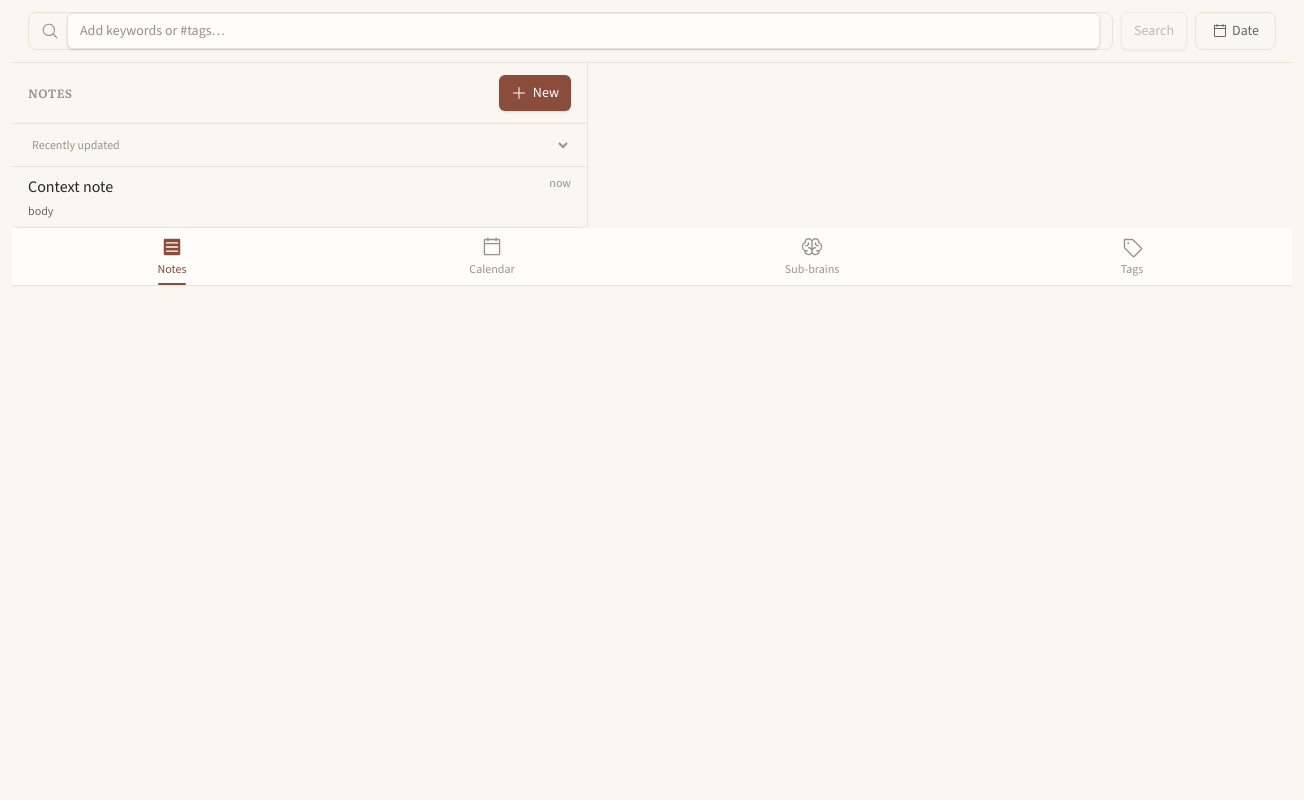
Test: user flows (integration) › opens editor from note selection while staying on notes tab
The image size is (1304, 800).
Click the text "Context note" at (71, 187), box [28,175,113,199]
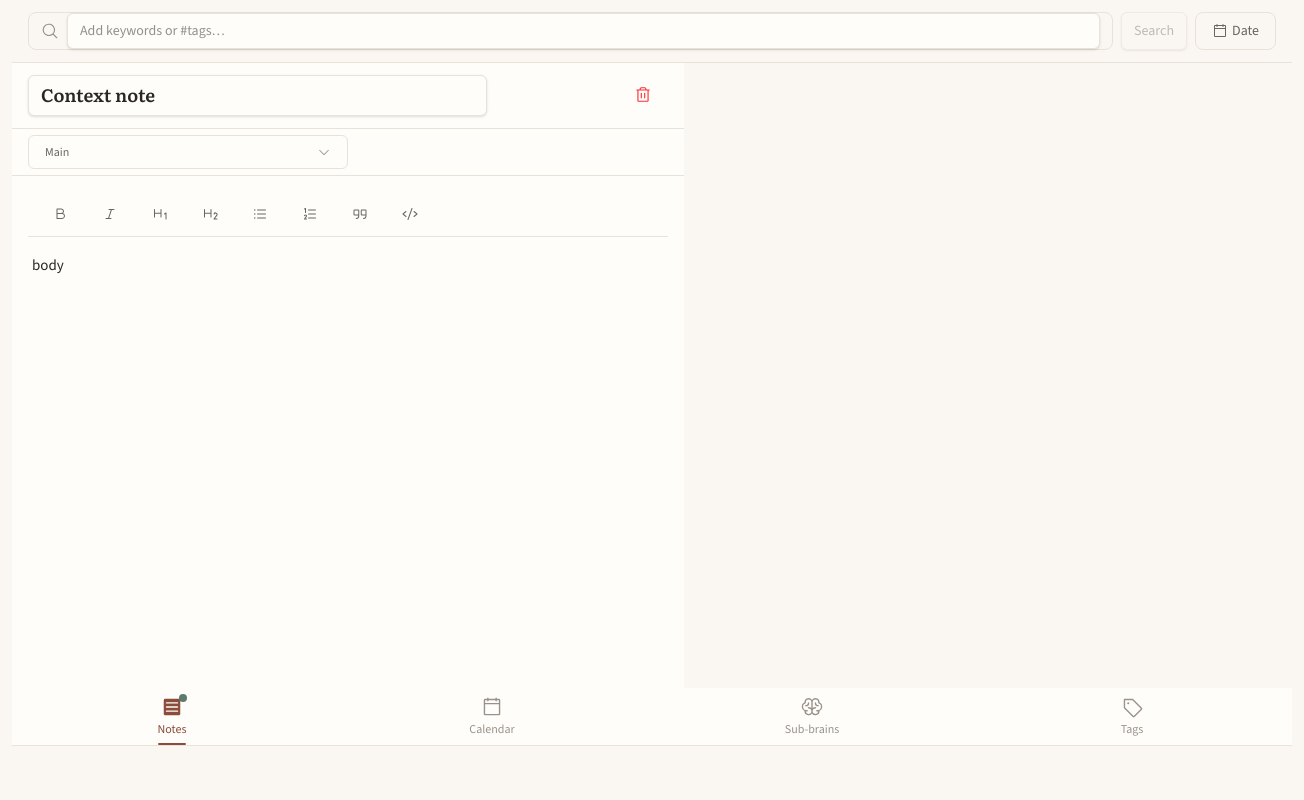
Now the field showing "Context note" is shown, box [28,75,487,116]
